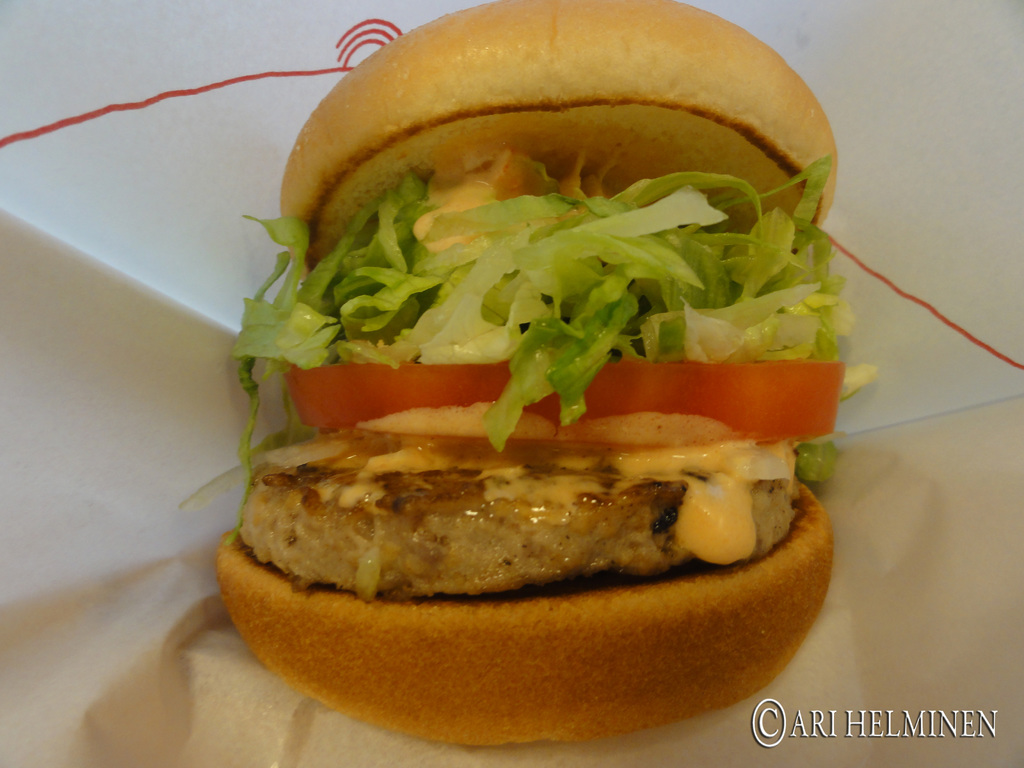Hamburger: (212, 0, 879, 747)
